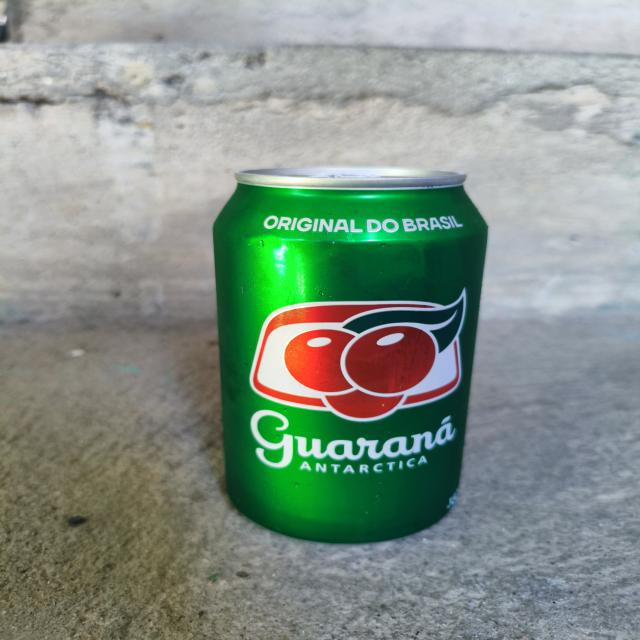Guarana: (210, 157, 497, 552)
